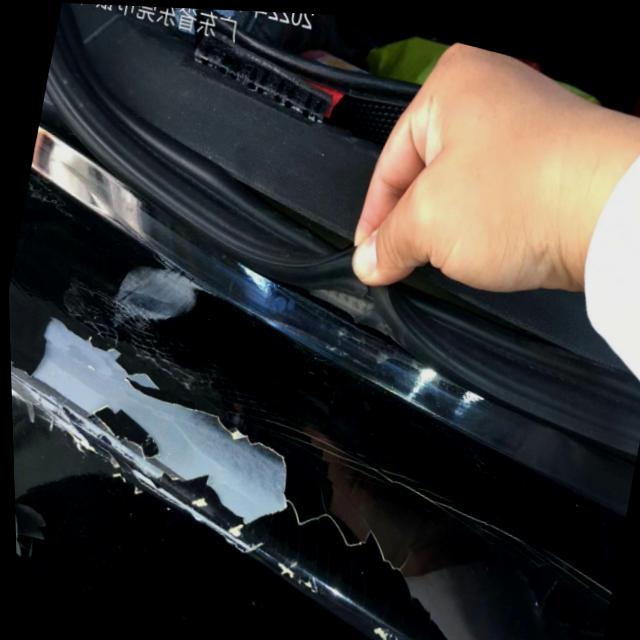Paint-Crack: (33, 317, 286, 523)
